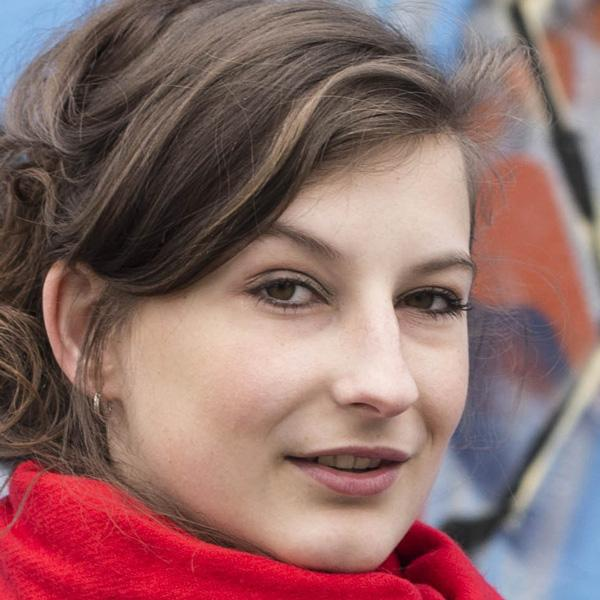Eyes: (235, 258, 334, 318), (389, 277, 471, 325)
